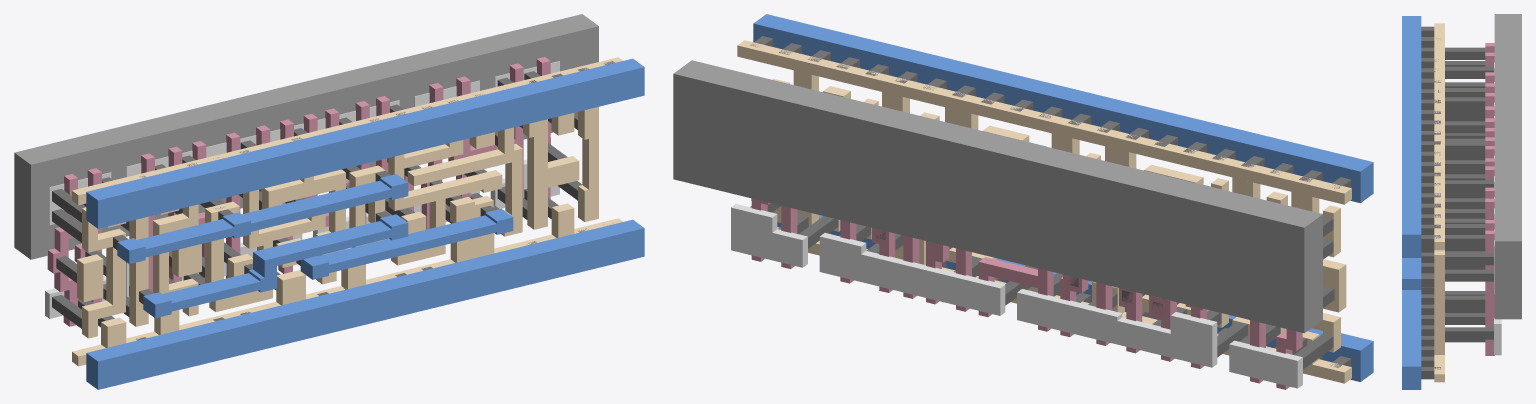
Rendered from sky130_fd_sc_hd__dfstp_1.gds.gltf.
The picture shows the model from 3 angles, left to right: view 1: azimuth 30°, elevation 25°; view 2: azimuth 150°, elevation 25°; view 3: azimuth 270°, elevation 25°; orthographic projection. The views are drawn at different scales.
Parts seen in each view (by area): view 1: sky130_fd_sc_hd__dfstp_1_met1, sky130_fd_sc_hd__dfstp_1_li1, sky130_fd_sc_hd__dfstp_1_nwell, sky130_fd_sc_hd__dfstp_1_poly, sky130_fd_sc_hd__dfstp_1_licon, sky130_fd_sc_hd__dfstp_1_diff, sky130_fd_sc_hd__dfstp_1_mcon; view 2: sky130_fd_sc_hd__dfstp_1_nwell, sky130_fd_sc_hd__dfstp_1_li1, sky130_fd_sc_hd__dfstp_1_met1, sky130_fd_sc_hd__dfstp_1_diff, sky130_fd_sc_hd__dfstp_1_poly, sky130_fd_sc_hd__dfstp_1_licon, sky130_fd_sc_hd__dfstp_1_mcon; view 3: sky130_fd_sc_hd__dfstp_1_licon, sky130_fd_sc_hd__dfstp_1_nwell, sky130_fd_sc_hd__dfstp_1_met1, sky130_fd_sc_hd__dfstp_1_mcon, sky130_fd_sc_hd__dfstp_1_li1, sky130_fd_sc_hd__dfstp_1_poly, sky130_fd_sc_hd__dfstp_1_diff.
Part boxes in pixels (<box>): sky130_fd_sc_hd__dfstp_1_met1: <box>86,58,644,389</box>; sky130_fd_sc_hd__dfstp_1_li1: <box>72,57,622,366</box>; sky130_fd_sc_hd__dfstp_1_nwell: <box>14,14,598,259</box>; sky130_fd_sc_hd__dfstp_1_poly: <box>47,57,550,326</box>; sky130_fd_sc_hd__dfstp_1_licon: <box>52,71,582,328</box>; sky130_fd_sc_hd__dfstp_1_diff: <box>45,61,559,318</box>; sky130_fd_sc_hd__dfstp_1_mcon: <box>113,61,614,340</box>; sky130_fd_sc_hd__dfstp_1_nwell: <box>673,60,1322,333</box>; sky130_fd_sc_hd__dfstp_1_li1: <box>737,40,1351,383</box>; sky130_fd_sc_hd__dfstp_1_met1: <box>753,14,1373,381</box>; sky130_fd_sc_hd__dfstp_1_diff: <box>731,204,1302,388</box>; sky130_fd_sc_hd__dfstp_1_poly: <box>751,198,1302,389</box>; sky130_fd_sc_hd__dfstp_1_licon: <box>750,85,1334,369</box>; sky130_fd_sc_hd__dfstp_1_mcon: <box>750,36,1351,367</box>; sky130_fd_sc_hd__dfstp_1_licon: <box>1445,47,1493,342</box>; sky130_fd_sc_hd__dfstp_1_nwell: <box>1494,14,1521,319</box>; sky130_fd_sc_hd__dfstp_1_met1: <box>1402,16,1421,389</box>; sky130_fd_sc_hd__dfstp_1_mcon: <box>1421,26,1440,379</box>; sky130_fd_sc_hd__dfstp_1_li1: <box>1434,23,1444,382</box>; sky130_fd_sc_hd__dfstp_1_poly: <box>1485,43,1494,355</box>; sky130_fd_sc_hd__dfstp_1_diff: <box>1494,62,1501,355</box>.
Size of the model in its own units: 10.04 by 3.2 by 2.24.
